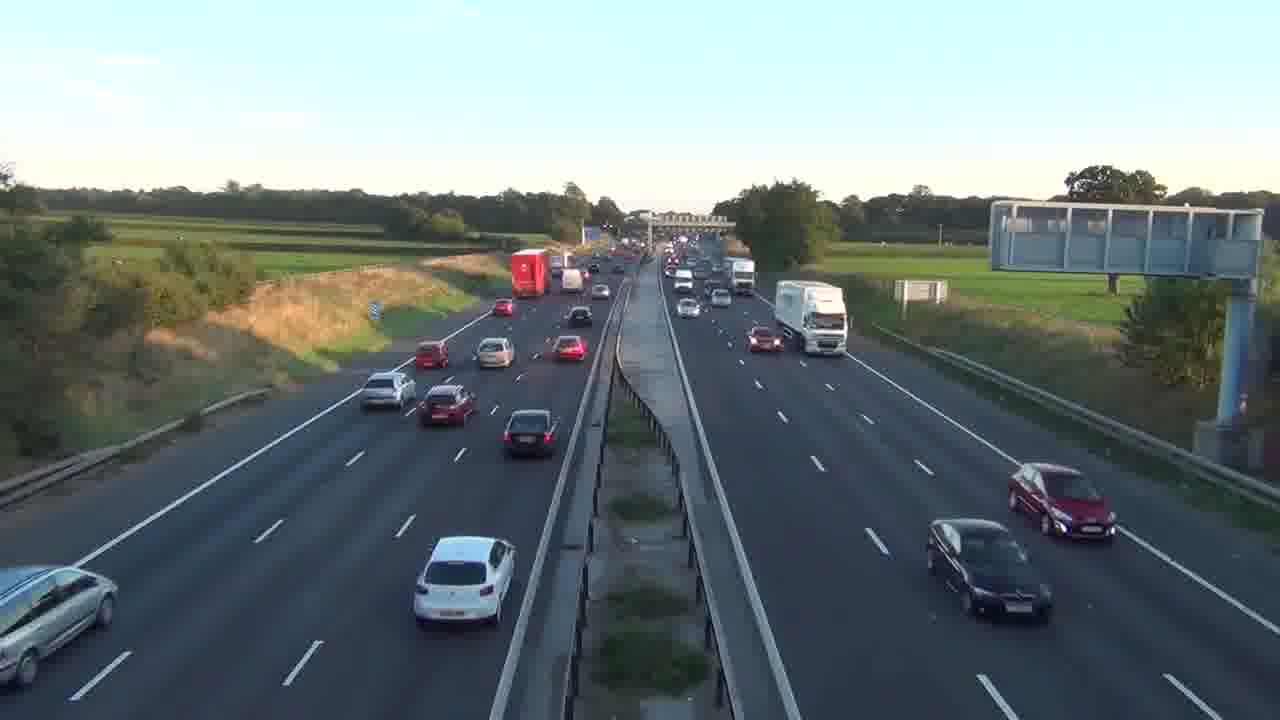bus: (773, 279, 849, 354)
car: (0, 563, 119, 690), (926, 516, 1054, 624), (411, 534, 517, 629), (1007, 461, 1119, 545), (497, 408, 561, 458), (421, 382, 477, 427), (474, 336, 515, 369), (549, 334, 588, 362), (745, 325, 784, 353), (567, 305, 593, 327), (493, 298, 514, 318)
truck: (729, 258, 756, 297)
